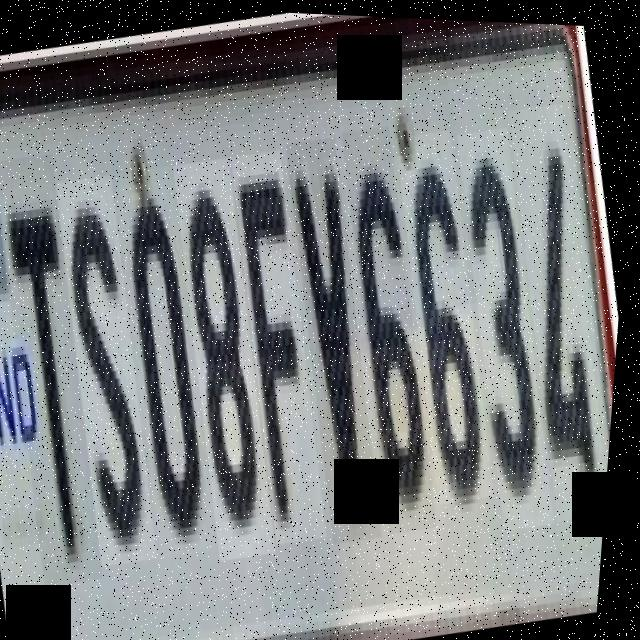0: (95, 163, 247, 559)
3: (436, 121, 584, 528)
4: (486, 96, 635, 516)
6: (320, 121, 469, 533), (376, 124, 523, 501)
8: (153, 154, 307, 562)
F: (211, 146, 357, 545)
S: (38, 172, 190, 568)
T: (0, 151, 136, 588)
V: (265, 132, 413, 543)
